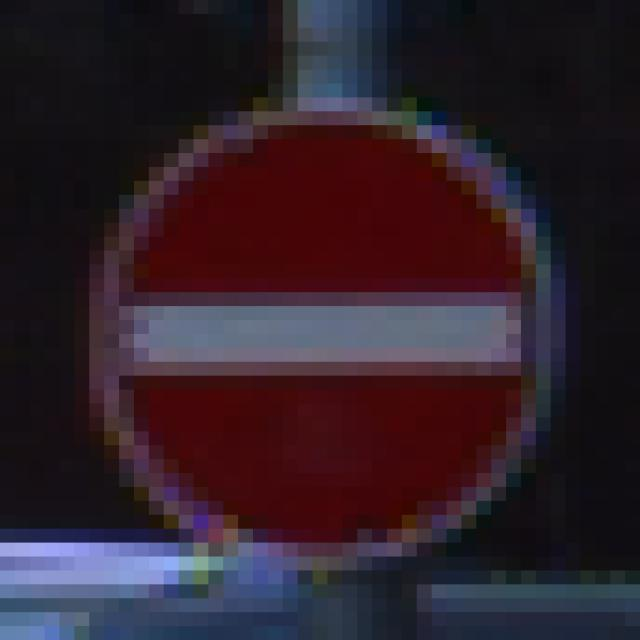No Entry: (76, 71, 567, 572)
